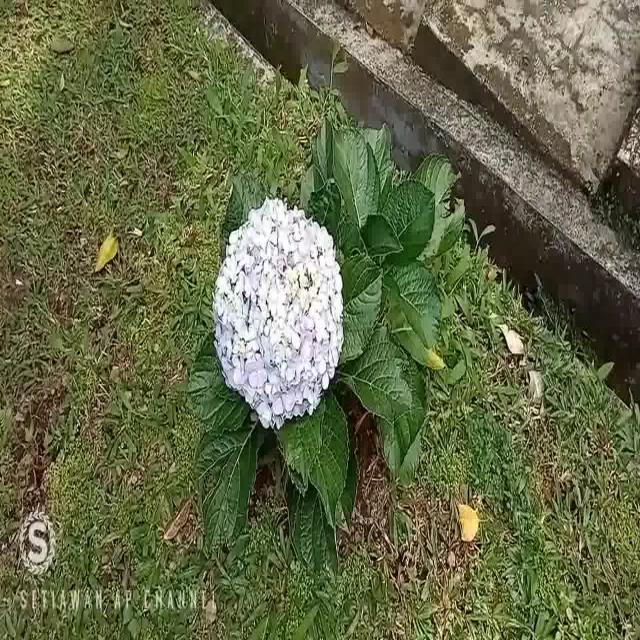Flower: (211, 190, 344, 427)
